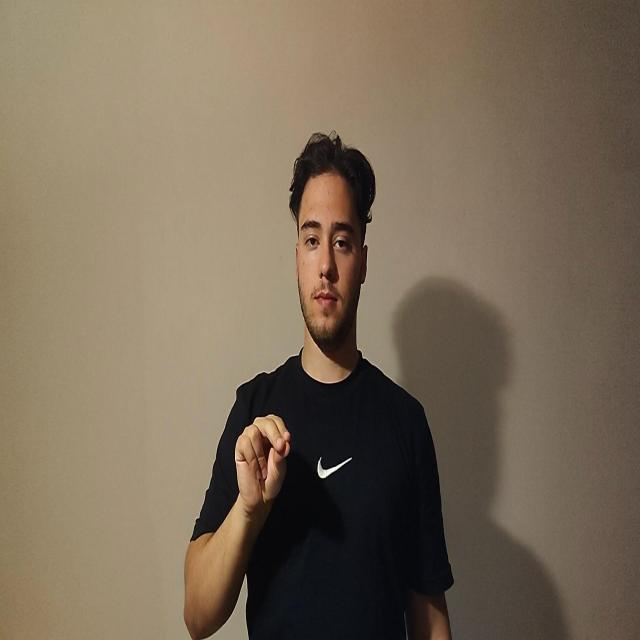no: (234, 412, 291, 520)
